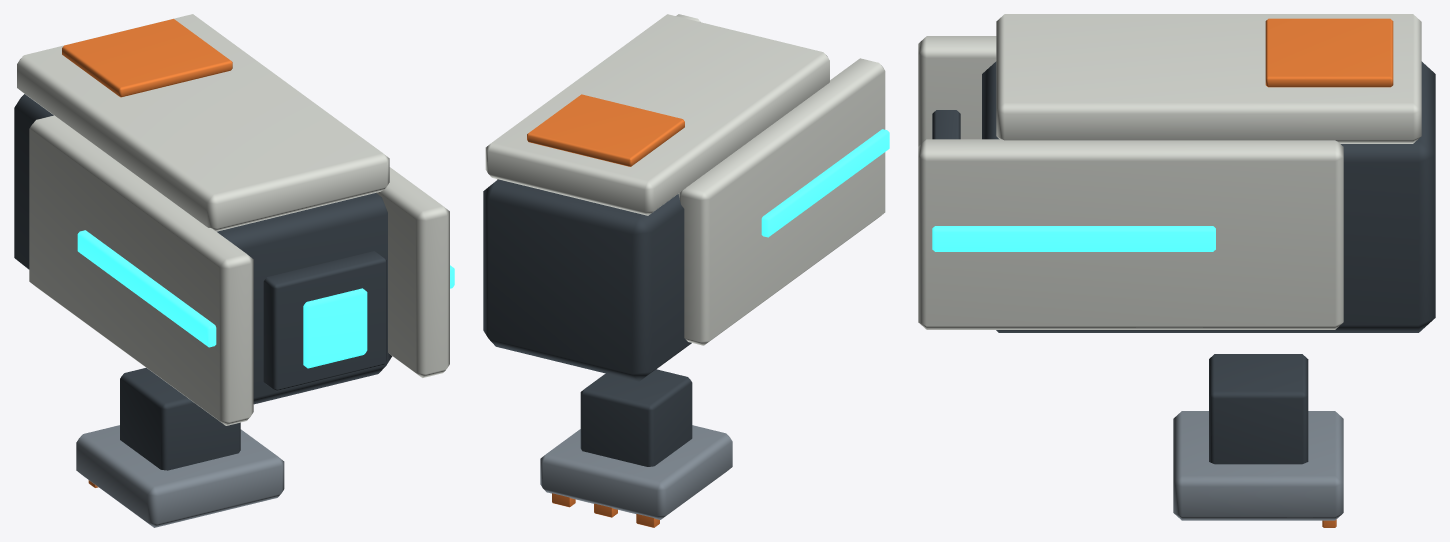
File: VXAUX_PULSE_GUN_v001.fbx
The picture shows the model from 3 angles, left to right: view 1: azimuth 30°, elevation 25°; view 2: azimuth 150°, elevation 25°; view 3: azimuth 270°, elevation 25°; orthographic projection. The views are drawn at different scales.
Visible parts, largest first — view 1: Top armor, Emitter shell, Pulse receiver, Universal mounting shoe, Emitter shell.001, Emitter recess, Orange service hatch, Mount neck, Emitter lens, Cyan emitter rail; view 2: Pulse receiver, Top armor, Emitter shell, Universal mounting shoe, Mount neck, Orange service hatch, Cyan emitter rail; view 3: Emitter shell.001, Top armor, Pulse receiver, Universal mounting shoe, Mount neck, Orange service hatch, Cyan emitter rail.001, Emitter shell, Emitter recess.
Part boxes in pixels (bbox=[...]): Top armor: bbox=[17, 14, 389, 231]; Emitter shell: bbox=[29, 115, 253, 425]; Pulse receiver: bbox=[14, 94, 392, 404]; Universal mounting shoe: bbox=[76, 425, 284, 527]; Emitter shell.001: bbox=[376, 167, 449, 377]; Emitter recess: bbox=[263, 251, 386, 391]; Orange service hatch: bbox=[62, 19, 232, 97]; Mount neck: bbox=[120, 368, 240, 470]; Emitter lens: bbox=[303, 288, 367, 368]; Cyan emitter rail: bbox=[77, 230, 216, 347]; Pulse receiver: bbox=[483, 179, 691, 381]; Top armor: bbox=[485, 14, 829, 215]; Emitter shell: bbox=[678, 58, 885, 345]; Universal mounting shoe: bbox=[540, 425, 732, 519]; Mount neck: bbox=[580, 369, 692, 466]; Orange service hatch: bbox=[527, 94, 684, 166]; Cyan emitter rail: bbox=[761, 129, 889, 237]; Emitter shell.001: bbox=[918, 139, 1343, 329]; Top armor: bbox=[996, 14, 1421, 143]; Pulse receiver: bbox=[982, 61, 1435, 332]; Universal mounting shoe: bbox=[1173, 411, 1343, 520]; Mount neck: bbox=[1209, 354, 1308, 464]; Orange service hatch: bbox=[1265, 18, 1393, 87]; Cyan emitter rail.001: bbox=[932, 226, 1215, 251]; Emitter shell: bbox=[918, 36, 996, 146]; Emitter recess: bbox=[932, 110, 960, 139].
Size of the model in its own units: 21.7 by 35.15 by 36.5.
